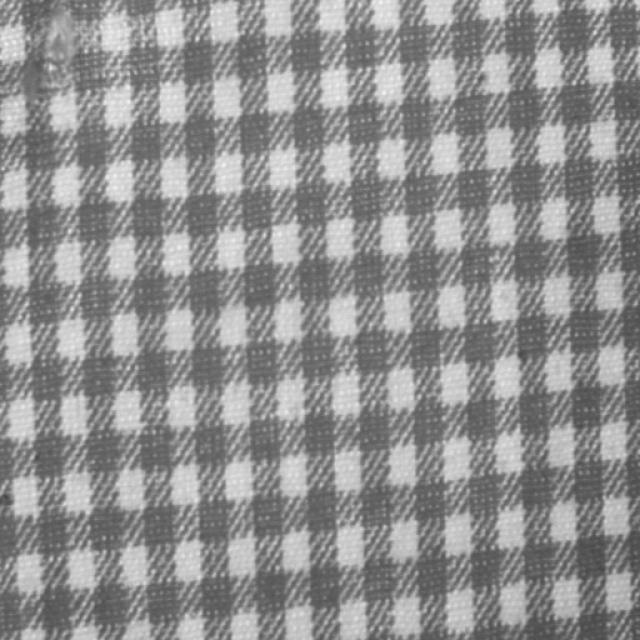Hole-Defect: (24, 0, 80, 86)
